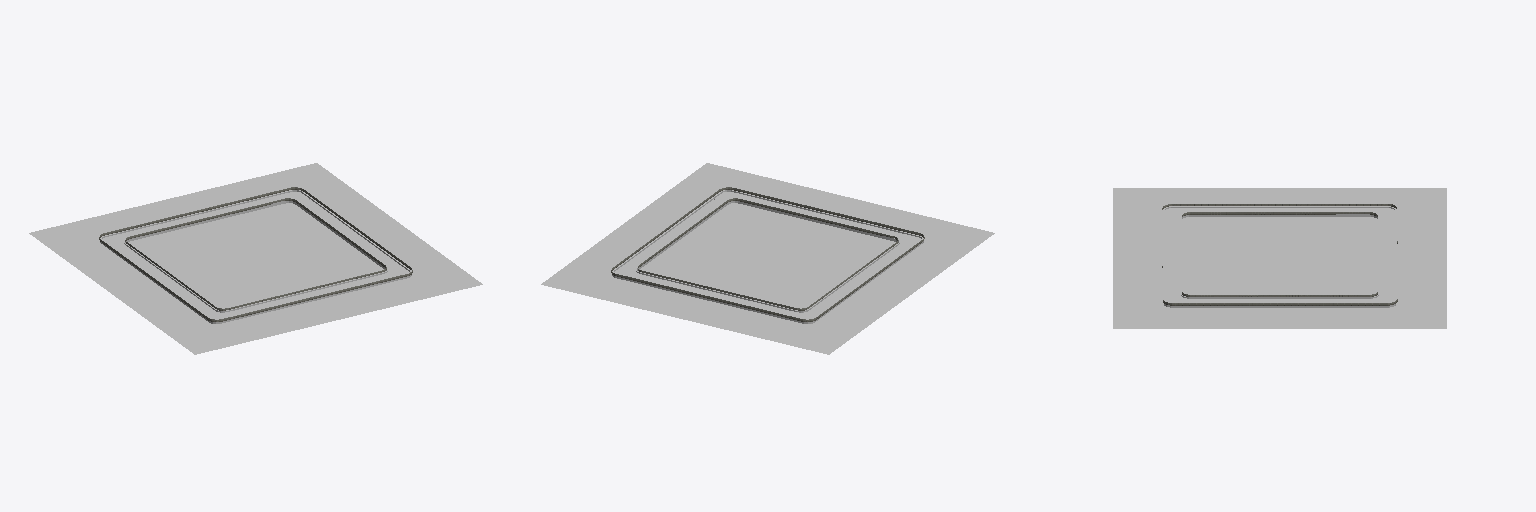
3 renders of one model, left to right at view 1: azimuth 30°, elevation 25°; view 2: azimuth 150°, elevation 25°; view 3: azimuth 270°, elevation 25°, orthographic.
Visible parts, largest first — view 1: Plane, Cube.001, Plane.001; view 2: Plane, Cube.001, Plane.001; view 3: Plane, Cube.001, Plane.001.
Boxes of the visible parts, x1=… form: Plane: x1=29, y1=163, x2=482, y2=354; Cube.001: x1=100, y1=190, x2=411, y2=323; Plane.001: x1=99, y1=187, x2=412, y2=321; Plane: x1=541, y1=163, x2=994, y2=354; Cube.001: x1=612, y1=190, x2=923, y2=323; Plane.001: x1=611, y1=187, x2=924, y2=321; Plane: x1=1113, y1=188, x2=1446, y2=328; Cube.001: x1=1164, y1=206, x2=1395, y2=307; Plane.001: x1=1162, y1=204, x2=1397, y2=305.
Size of the model in its own units: 25.65 by 0.4867 by 25.65.
Materials: 33 (1 with a texture image).